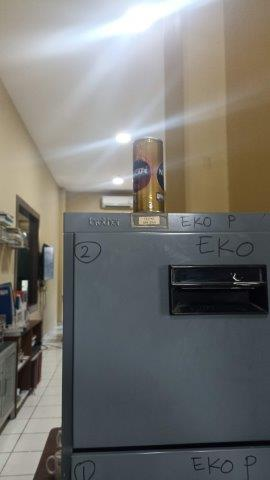kaleng: (132, 138, 165, 213)
